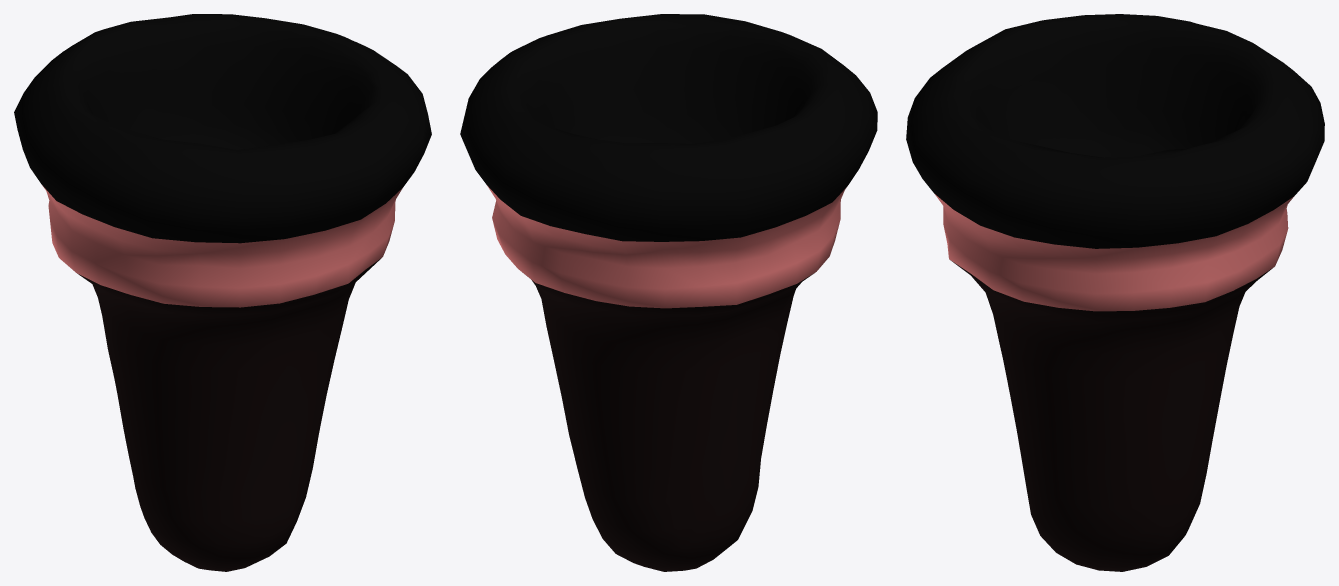
Rendered from antorcha.fbx.
The picture shows the model from 3 angles, left to right: view 1: azimuth 30°, elevation 25°; view 2: azimuth 150°, elevation 25°; view 3: azimuth 270°, elevation 25°; orthographic projection.
Visible parts, largest first — view 1: antorcha:pSphere1 (×3); view 2: antorcha:pSphere1 (×3); view 3: antorcha:pSphere1 (×3).
Part boxes in pixels (bbox=[...]): antorcha:pSphere1 (×3): bbox=[14, 14, 431, 571]; antorcha:pSphere1 (×3): bbox=[460, 14, 877, 571]; antorcha:pSphere1 (×3): bbox=[906, 14, 1324, 571].
Bounding box in the file's own units: 2.44 × 3.17 × 2.48.
